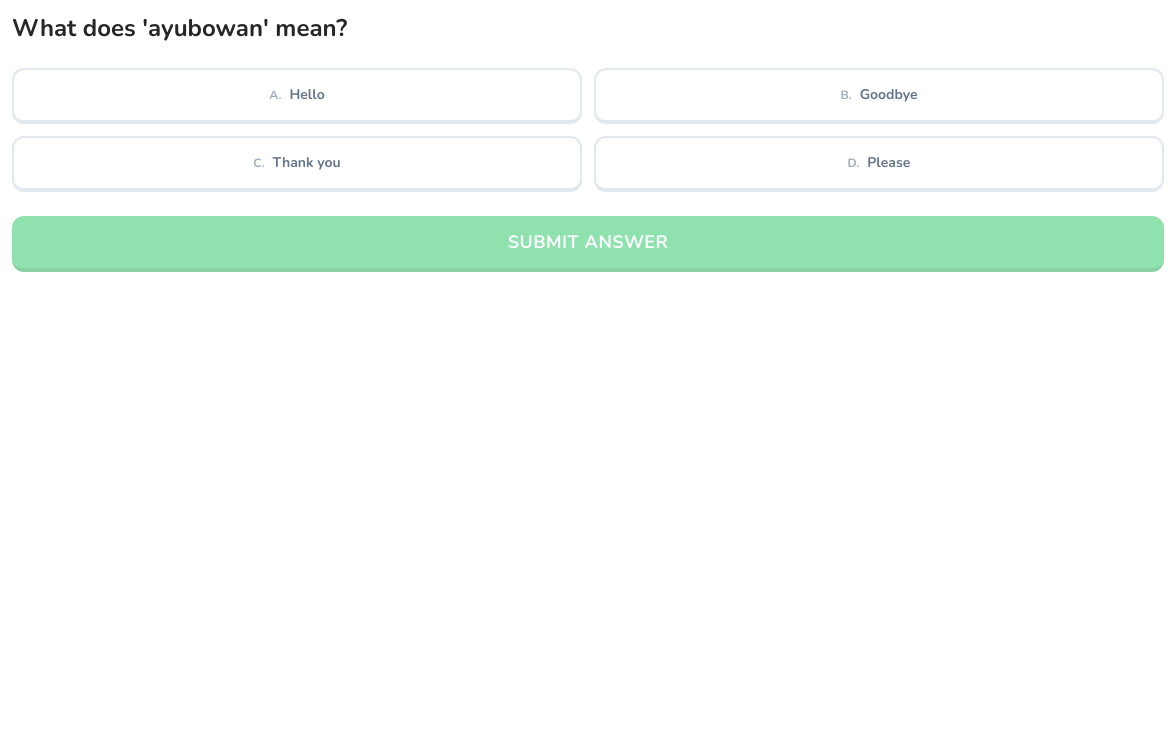
it: QuizCard › MCQ questions › submits incorrect MCQ answer and shows explanation panel
Click the button "B. Goodbye": (879, 96) [594,68,1164,124]
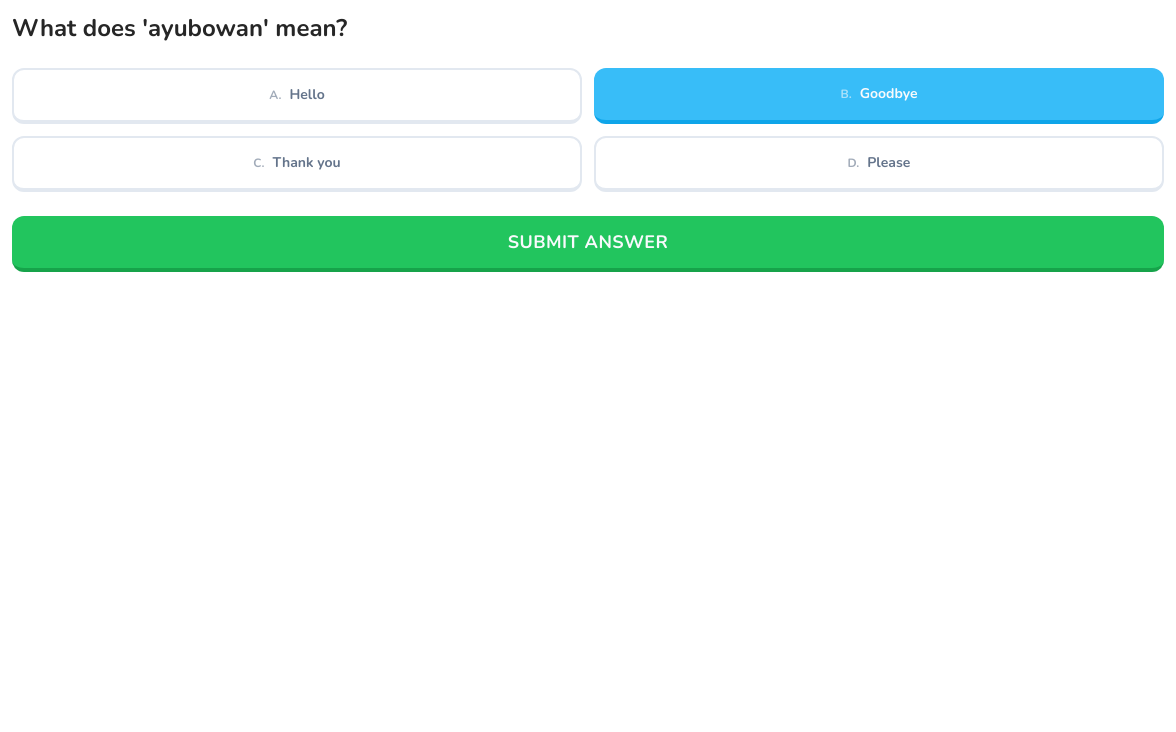
Click the button "Submit Answer": (588, 244) [12,216,1164,272]
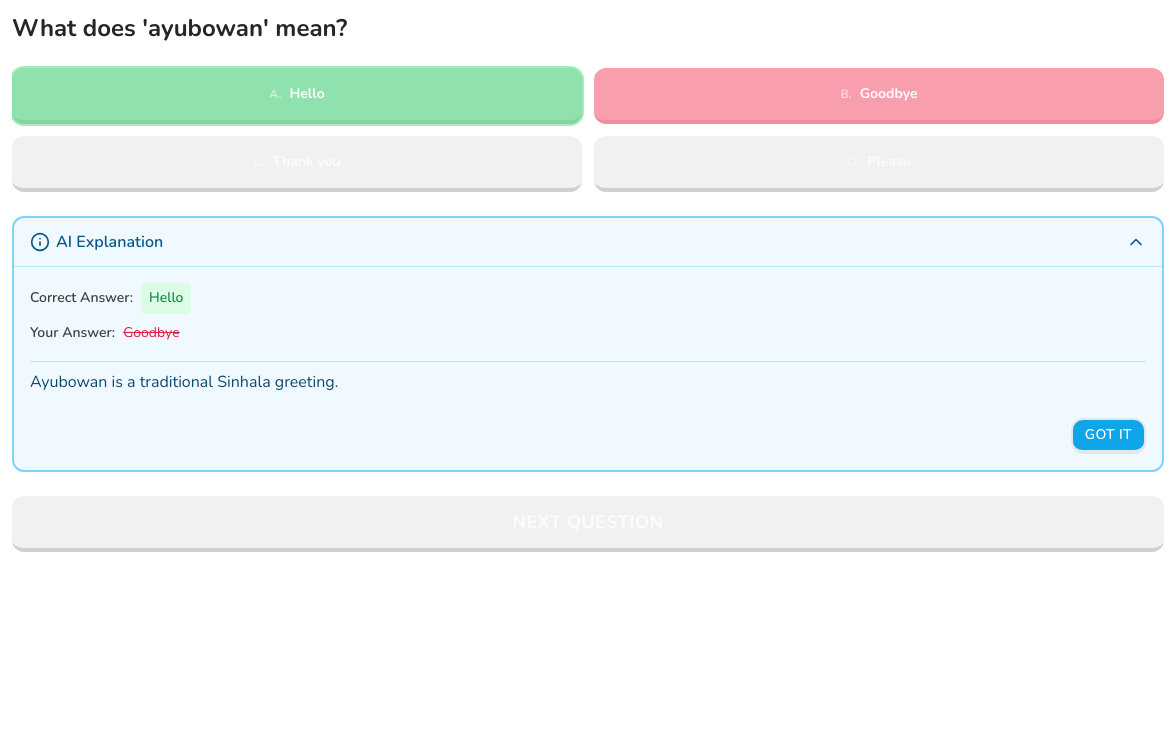
Result: the text "AI Explanation" is shown at [56,230,163,254]
Result: the text "Ayubowan is a traditional Sinhala greeting." is shown at [30,370,338,392]
